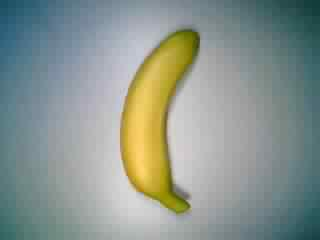banana: (115, 29, 211, 215)
